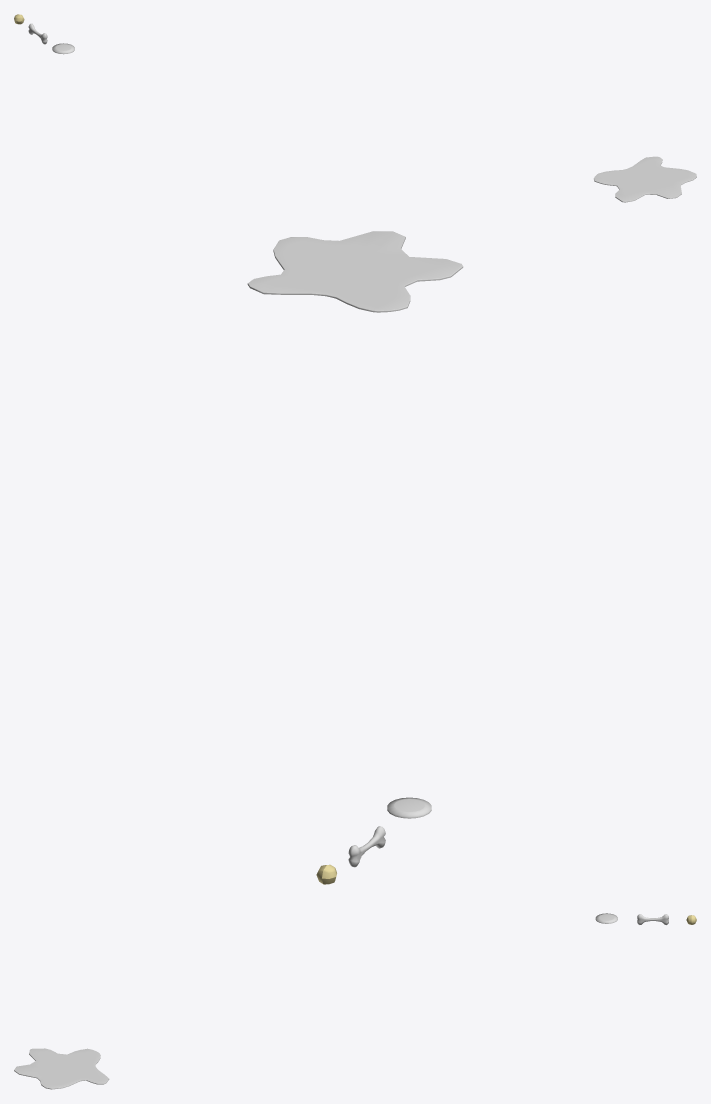
The model's file is Toys.fbx.
3 renders of one model, top to bottom at view 1: azimuth 30°, elevation 25°; view 2: azimuth 150°, elevation 25°; view 3: azimuth 270°, elevation 25°, orthographic. The views are drawn at different scales.
Parts seen in each view (by area): view 1: Mud_low; view 2: Mud_low; view 3: Mud_low.
Boxes of the visible parts, x1,y1,x2,y2 form: Mud_low: [594, 156, 696, 202]; Mud_low: [247, 231, 463, 312]; Mud_low: [14, 1048, 109, 1089].
Size of the model in its own units: 92.3 by 2.68 by 155.
